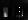person: (17, 9, 23, 20), (4, 5, 9, 17)
